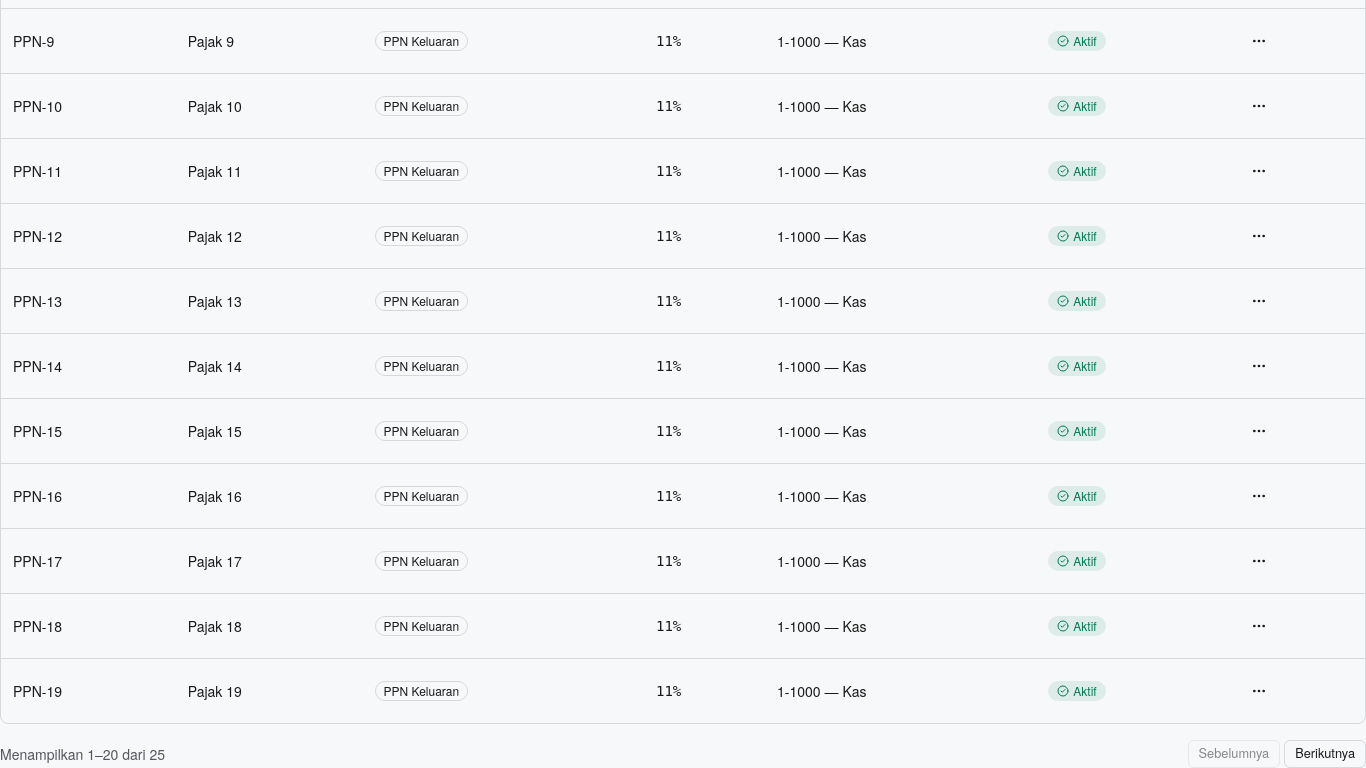
Test: paginates tax codes server-side
(page scrolled)
Expected: the text "PPN-20" is not shown
Expected: the text "Menampilkan 1–20 dari 25" is shown, [0,744,165,764]
Click the button "Berikutnya".
click(1325, 754)  # box [1284,740,1365,767]
(page scrolled)
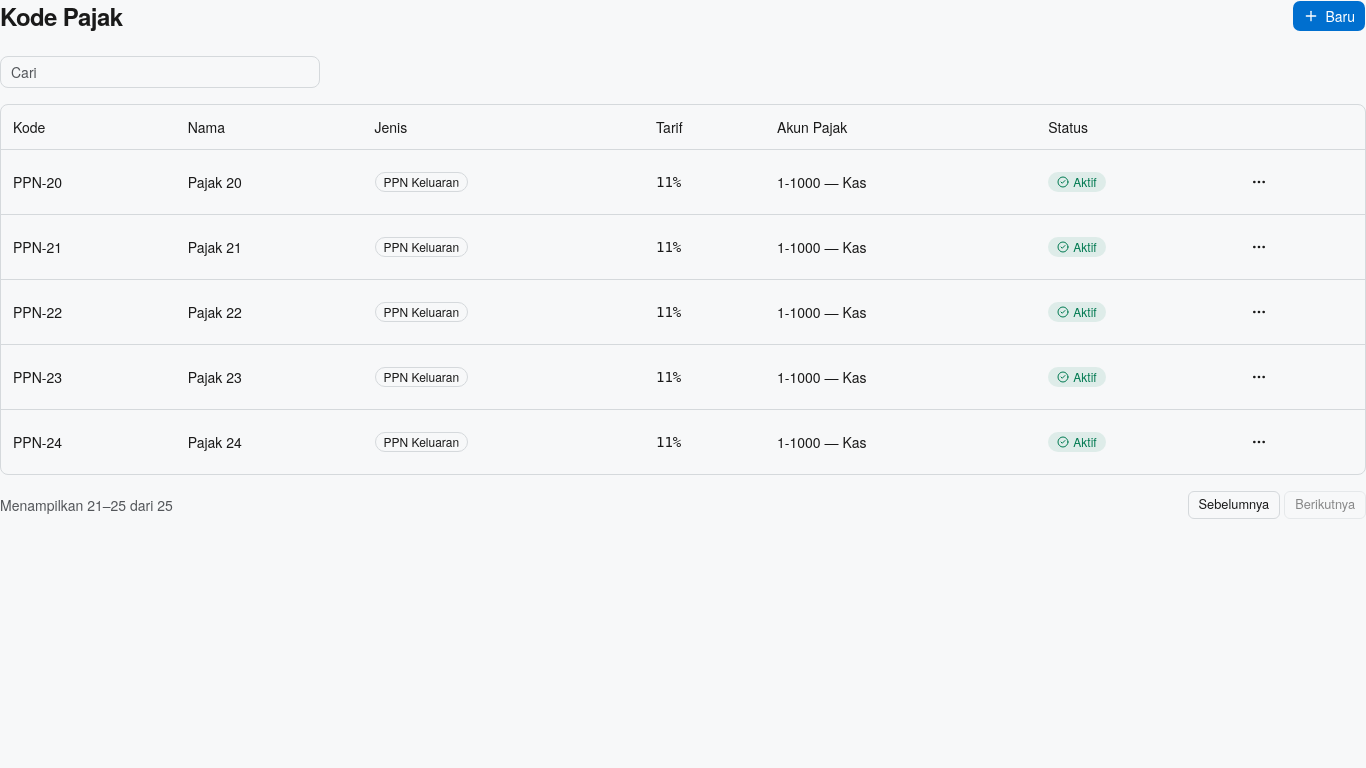
Expected: the text "PPN-20" is shown, [1,149,176,214]
